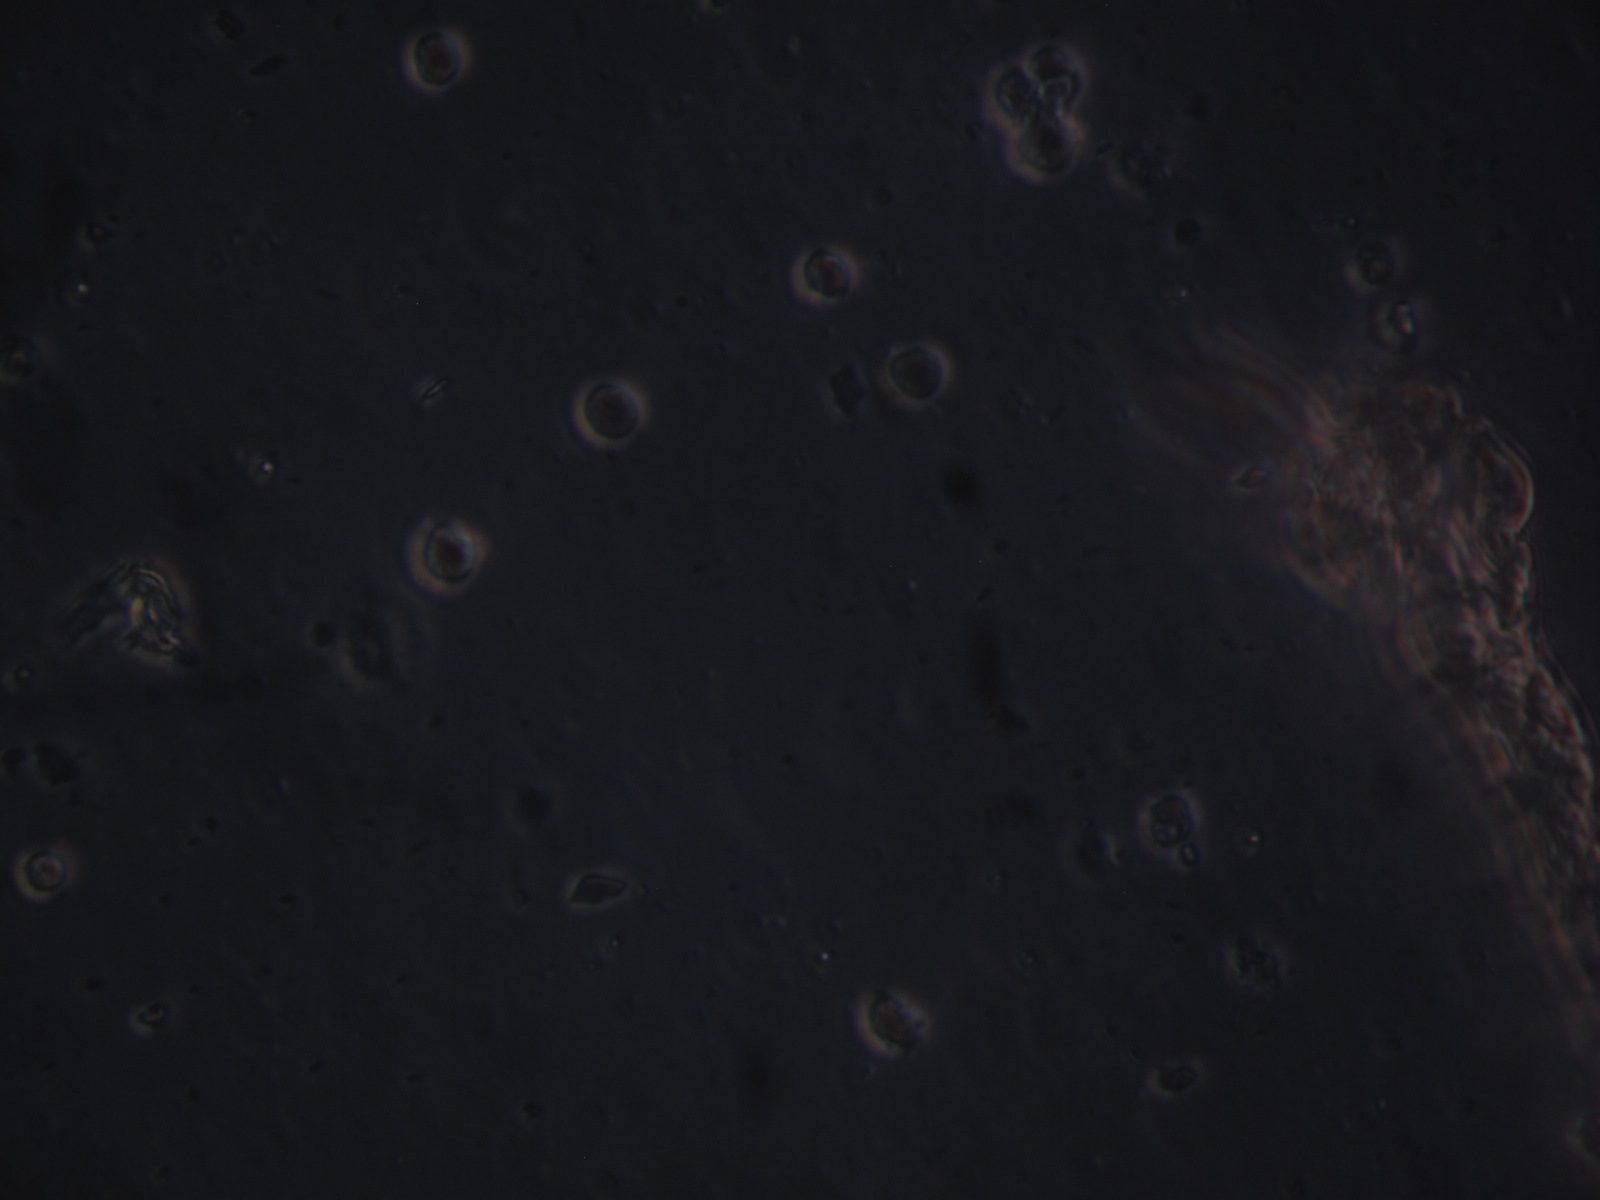hemo: (407, 514, 489, 597), (574, 376, 648, 449), (1015, 105, 1083, 182), (859, 986, 931, 1058), (406, 26, 474, 95), (884, 340, 952, 407), (794, 241, 860, 308), (981, 61, 1046, 129), (1141, 787, 1201, 858), (1023, 45, 1090, 108), (15, 841, 78, 901), (564, 863, 636, 911), (1377, 292, 1425, 345)
